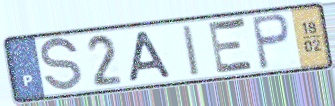2: (85, 33, 125, 88)
A: (127, 29, 175, 84)
E: (206, 16, 257, 77)
I: (180, 23, 203, 79)
P: (249, 12, 293, 72)
S: (38, 34, 85, 95)
